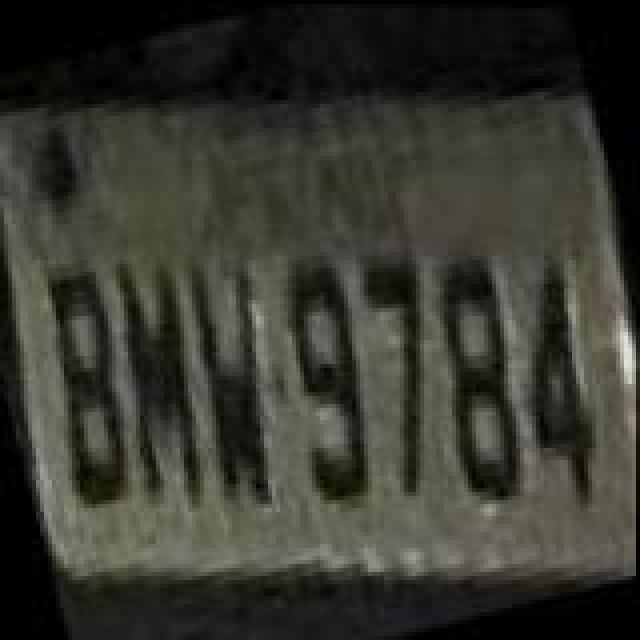4: (490, 250, 626, 514)
7: (338, 240, 474, 504)
8: (410, 250, 554, 514)
9: (254, 246, 398, 514)
B: (14, 254, 158, 518)
M: (82, 244, 234, 528)
W: (164, 246, 312, 518)
